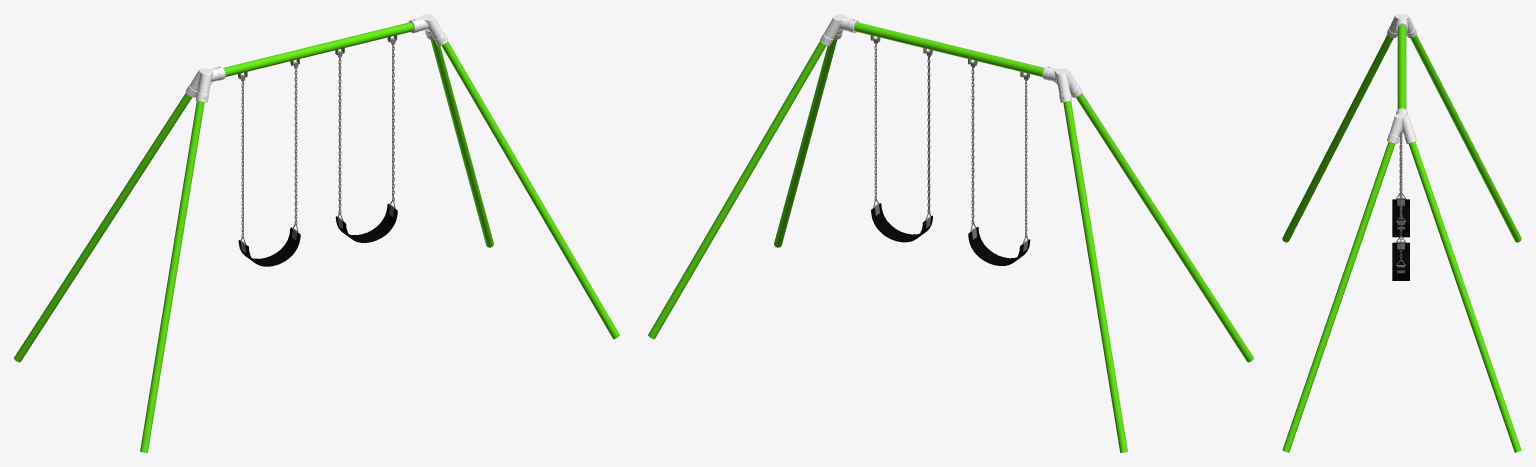
Rendered from 4068- Pórtico Doble Familiar.FBX.
3 renders of one model, left to right at view 1: azimuth 30°, elevation 25°; view 2: azimuth 150°, elevation 25°; view 3: azimuth 270°, elevation 25°, orthographic. The views are drawn at different scales.
Bounding box in the file's own units: 173 × 105 × 81.25.
